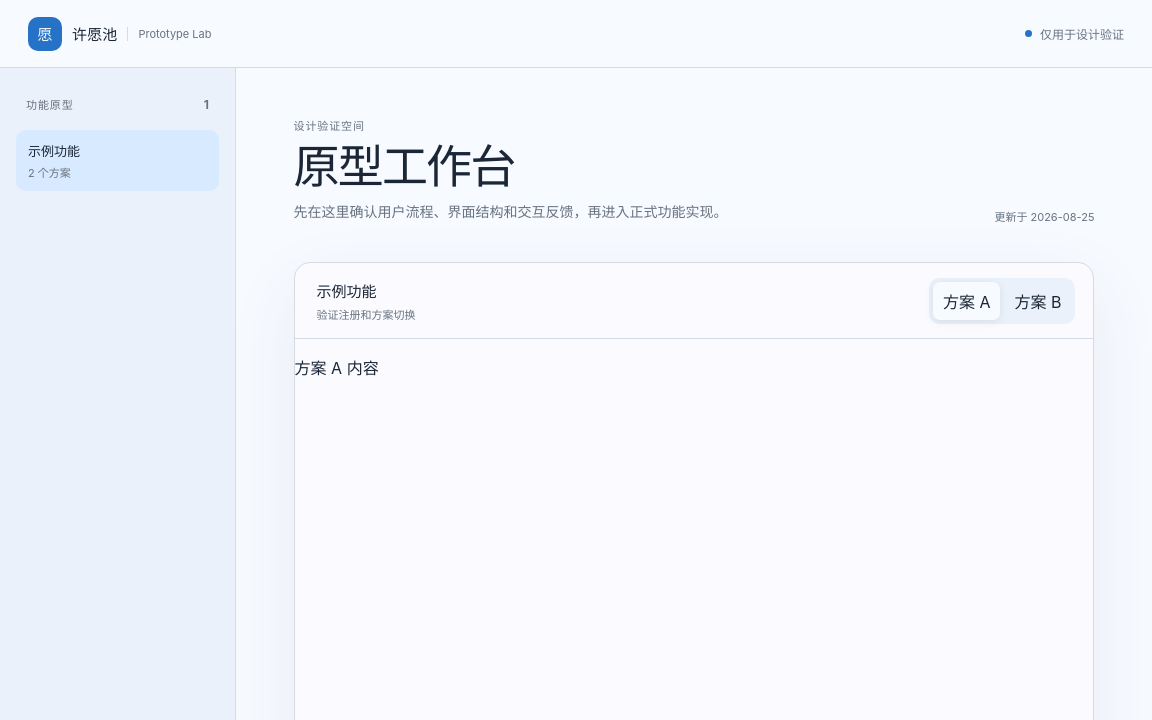
Test: registered prototype variants are selected through shareable URL parameters
This screenshot has width=1152, height=720.
Expected: the text "方案 A 内容" is shown, [295,358,379,378]
Click the button "方案 B" at (1038, 301), box [1004,282,1071,320]
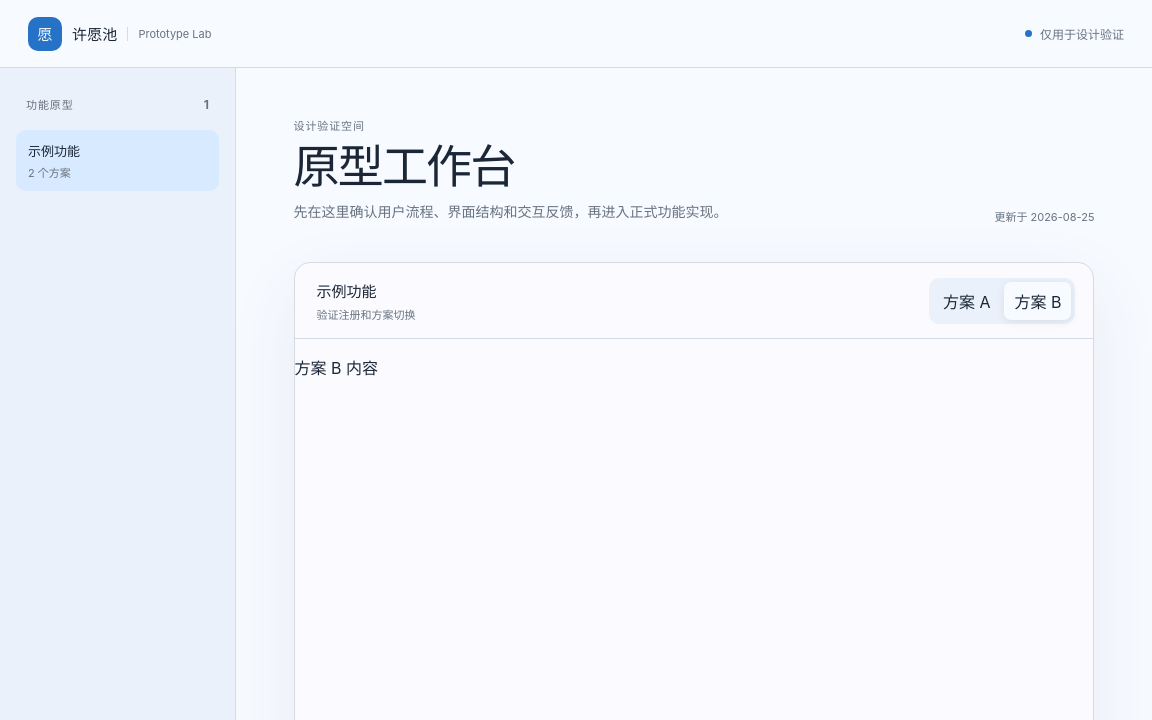
Now the text "方案 B 内容" is shown, box [295,358,378,378]
